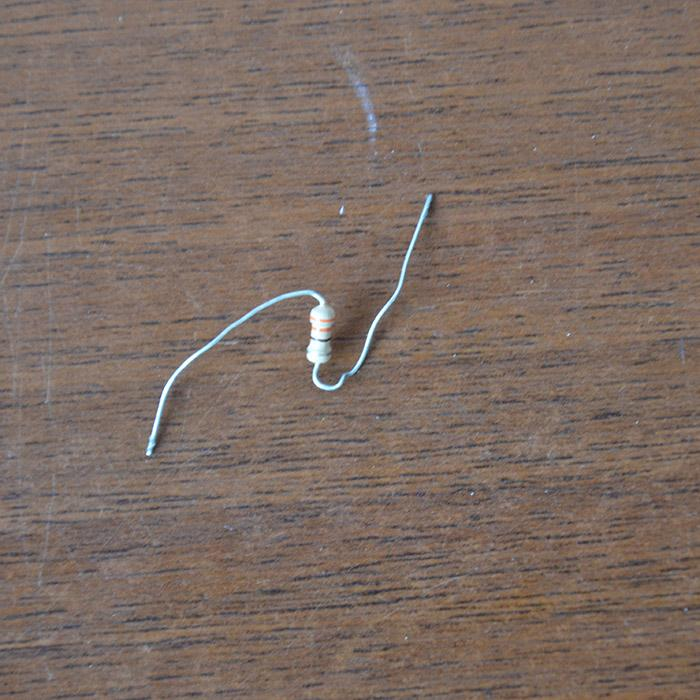resistor: (306, 300, 335, 364)
